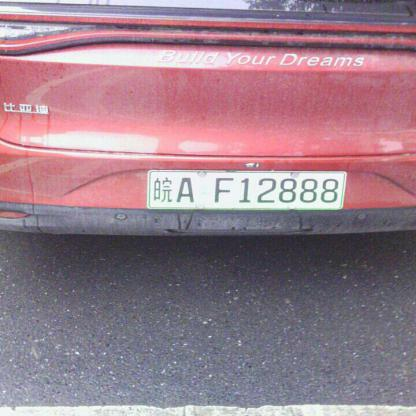lp: (148, 171, 345, 208)
